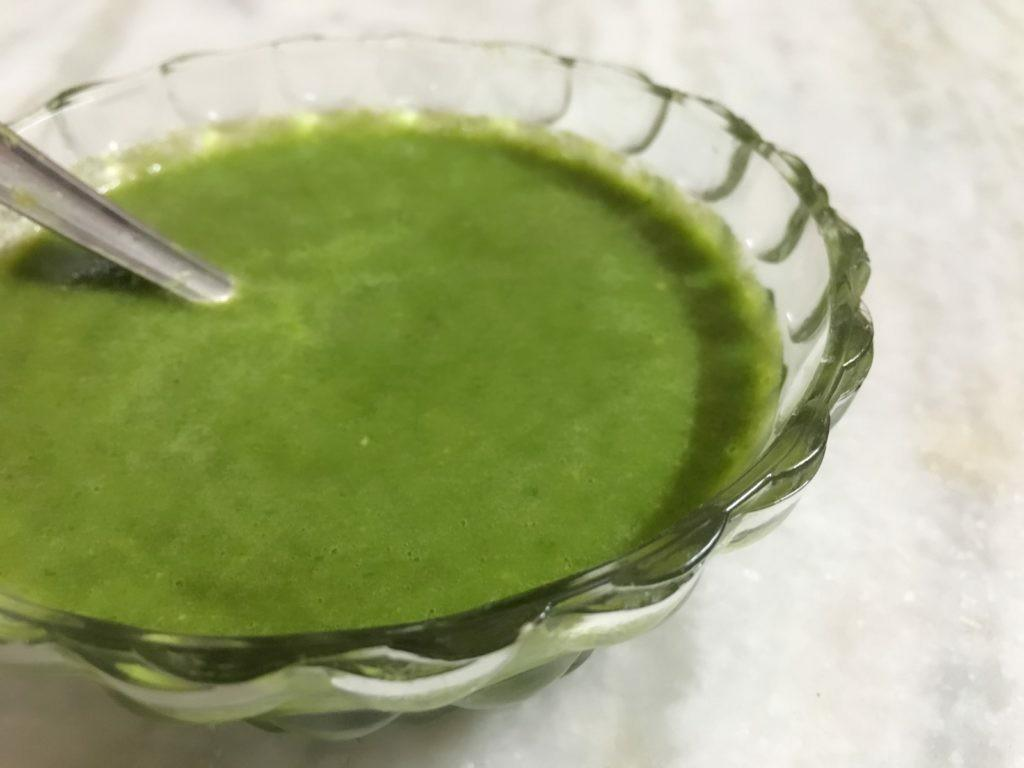GreenChutney: (0, 121, 765, 635)
